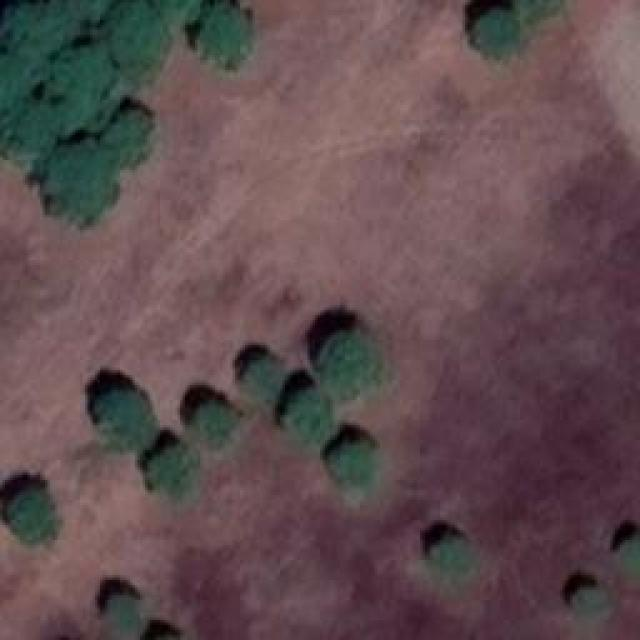Tree: (48, 143, 111, 216), (323, 325, 386, 390), (112, 3, 170, 73), (45, 52, 103, 120), (3, 3, 66, 63), (193, 3, 248, 68), (5, 490, 63, 545), (105, 105, 155, 168), (3, 103, 53, 163), (98, 393, 151, 448), (280, 388, 333, 443), (328, 440, 381, 493), (430, 538, 478, 588), (150, 445, 193, 490), (100, 595, 143, 638), (190, 400, 233, 440), (475, 10, 513, 53), (243, 360, 278, 395), (0, 53, 18, 118), (573, 585, 603, 620), (68, 0, 118, 18), (622, 537, 640, 575)
